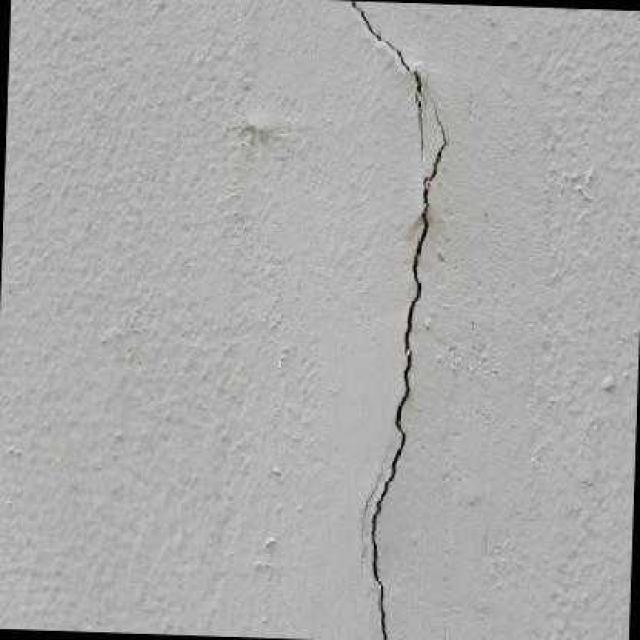D00: (371, 92, 450, 640), (352, 1, 426, 178)
